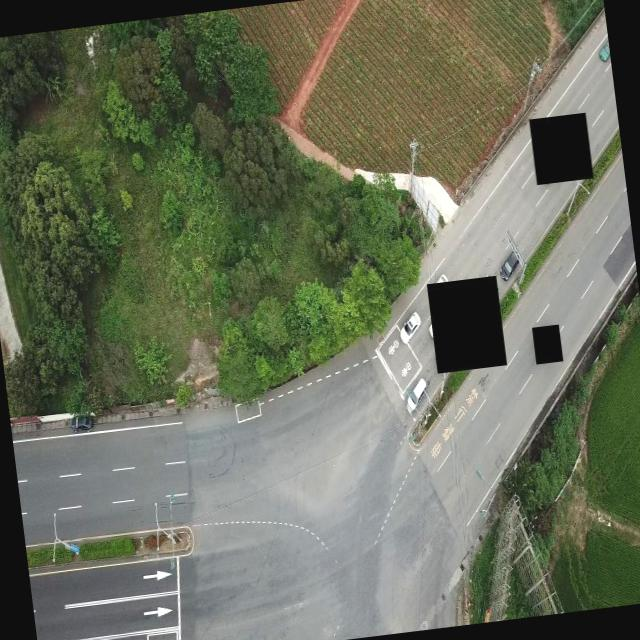car: (403, 375, 429, 412), (498, 248, 522, 280), (398, 310, 422, 339), (428, 272, 452, 298), (69, 410, 93, 434), (428, 317, 448, 340), (597, 38, 610, 62)
